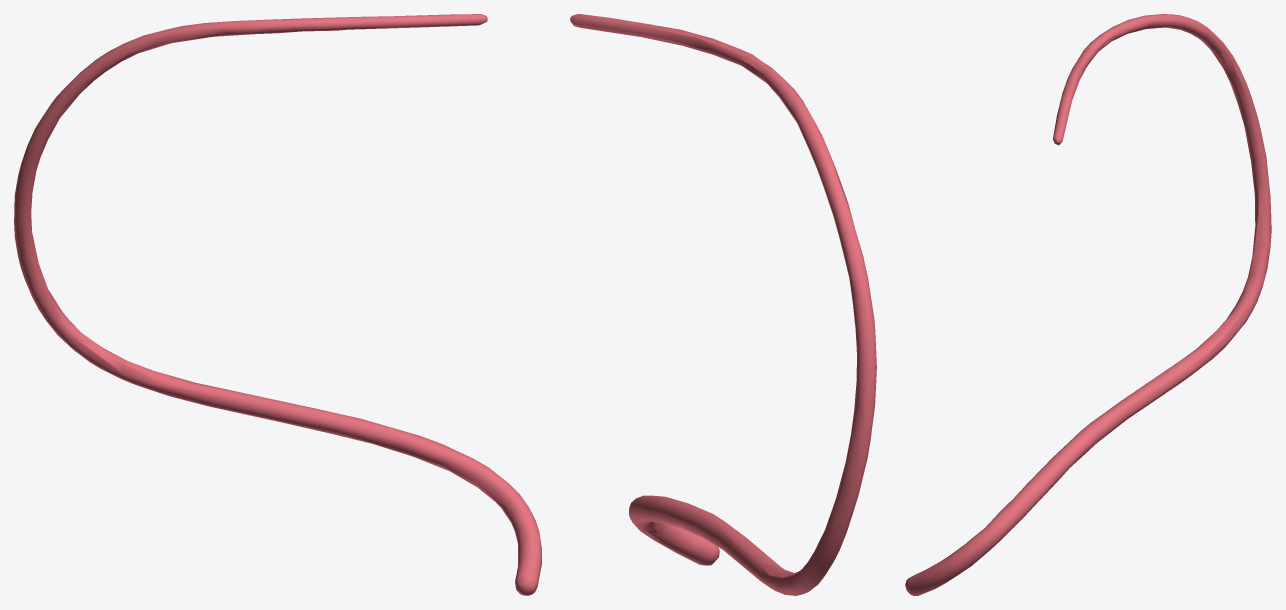
Rendered from fma49693_fj5029.glb.
3 renders of one model, left to right at view 1: azimuth 30°, elevation 25°; view 2: azimuth 150°, elevation 25°; view 3: azimuth 270°, elevation 25°, orthographic. The views are drawn at different scales.
Parts seen in each view (by area): view 1: FMA49693_FJ5029; view 2: FMA49693_FJ5029; view 3: FMA49693_FJ5029.
Boxes of the visible parts, box(x1,y1,x2,y2) form: FMA49693_FJ5029: box(14, 14, 541, 595); FMA49693_FJ5029: box(570, 14, 876, 595); FMA49693_FJ5029: box(905, 14, 1271, 595).
Bounding box in the file's own units: 0.0172 × 0.0242 × 0.0163.
